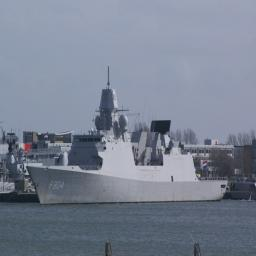Fragata: (24, 65, 230, 208)
